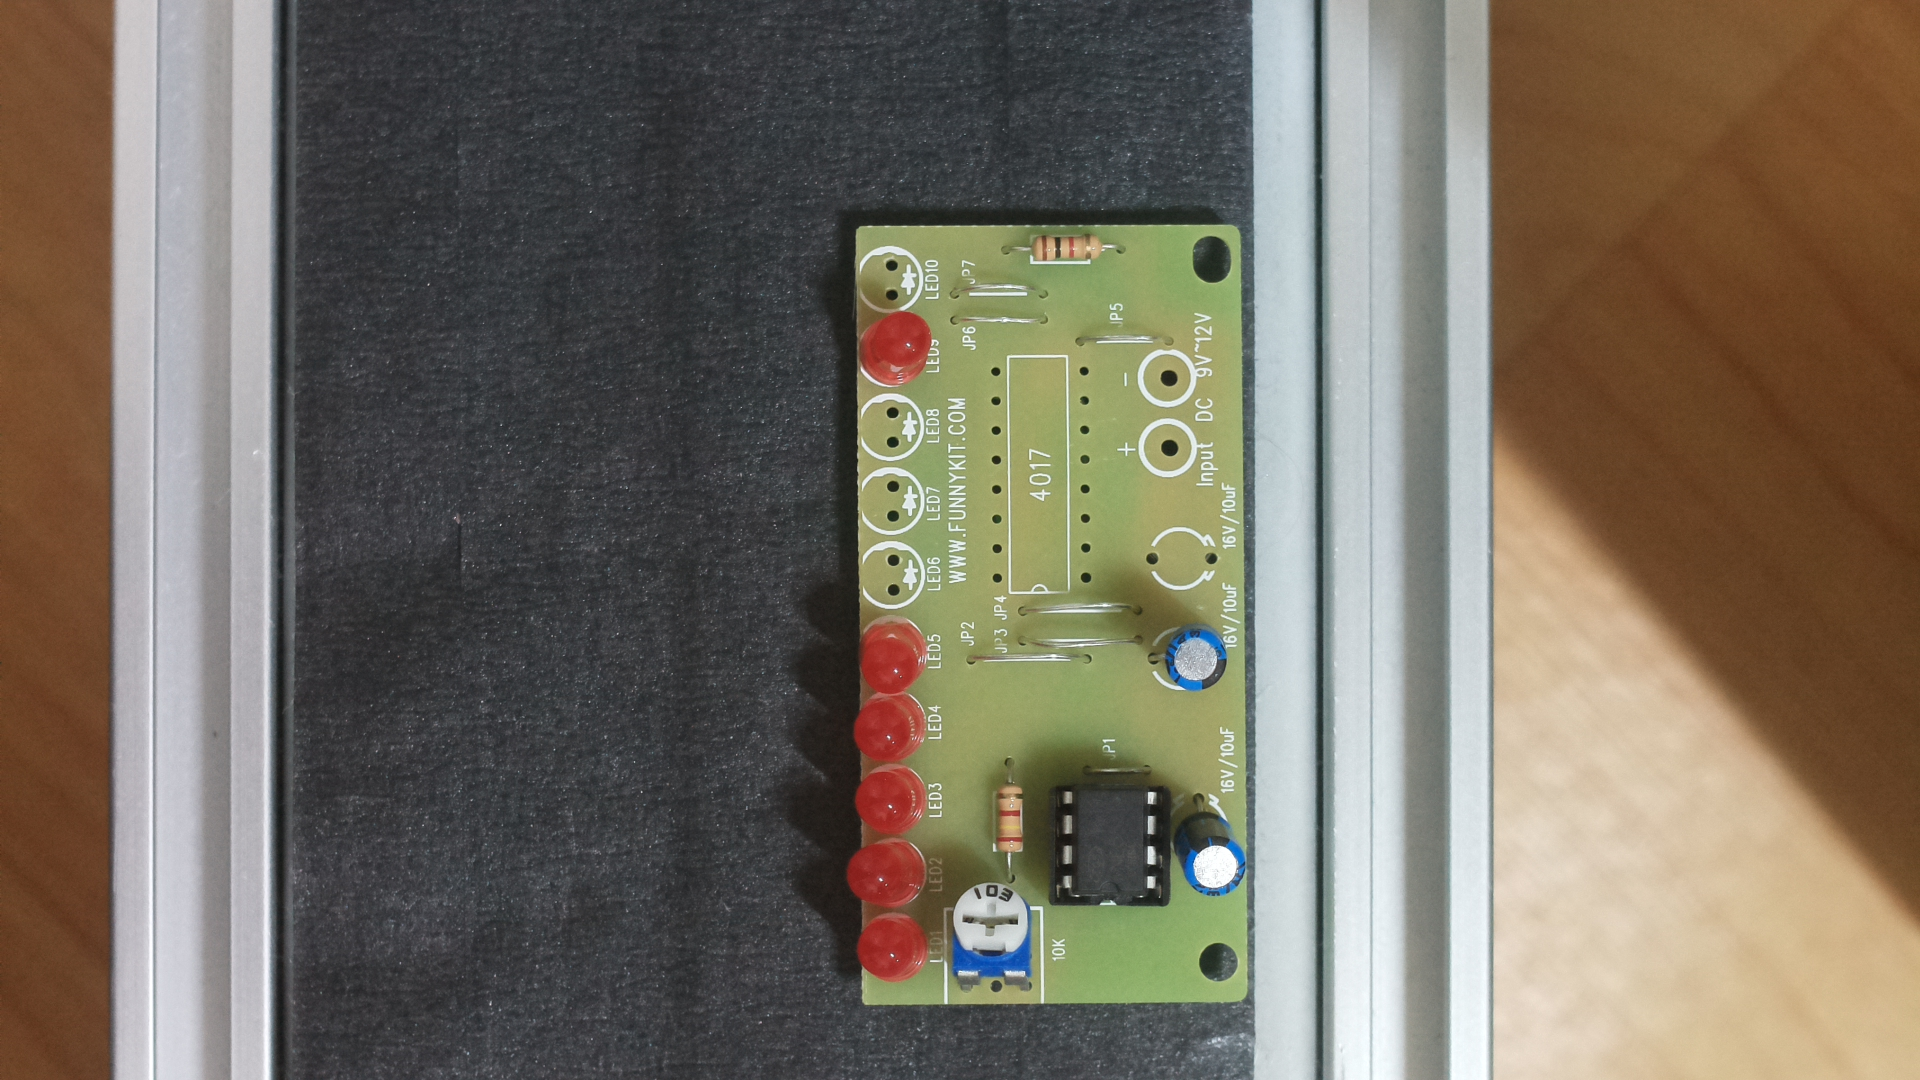B_Missing_part: (831, 204, 1258, 1034)
